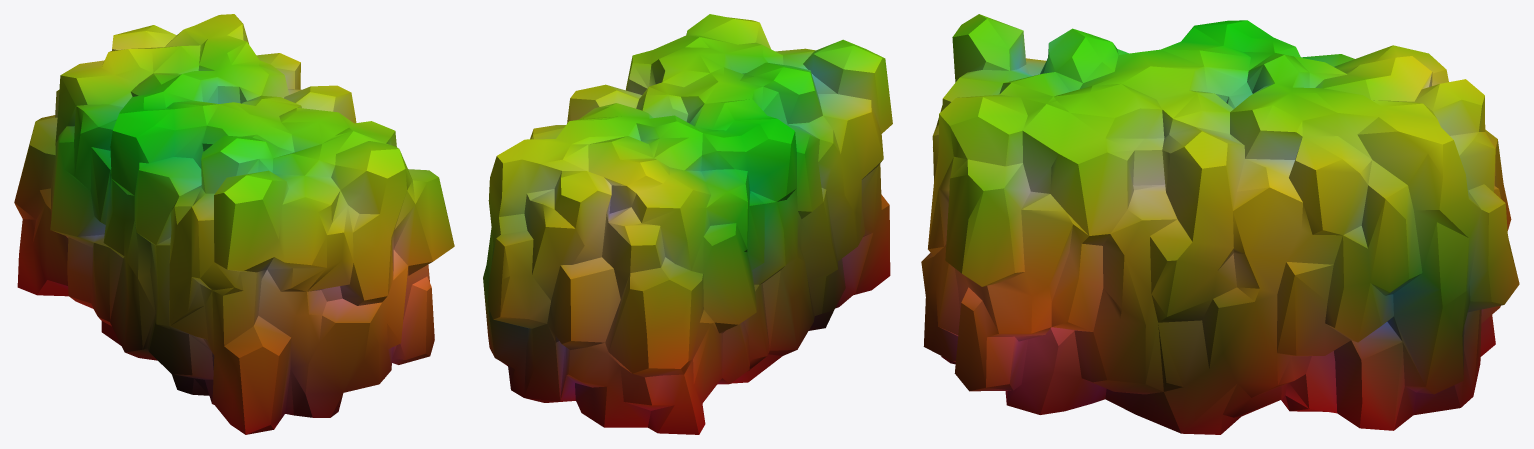
Rendered from MS_RockBig_01.fbx.
The picture shows the model from 3 angles, left to right: view 1: azimuth 30°, elevation 25°; view 2: azimuth 150°, elevation 25°; view 3: azimuth 270°, elevation 25°; orthographic projection. The views are drawn at different scales.
Parts seen in each view (by area): view 1: RockBig_01; view 2: RockBig_01; view 3: RockBig_01.
Boxes of the visible parts, bbox=[...] form: RockBig_01: bbox=[14, 14, 454, 434]; RockBig_01: bbox=[483, 14, 892, 434]; RockBig_01: bbox=[921, 14, 1519, 434].
Bounding box in the file's own units: 9019 × 8391 × 15123.
